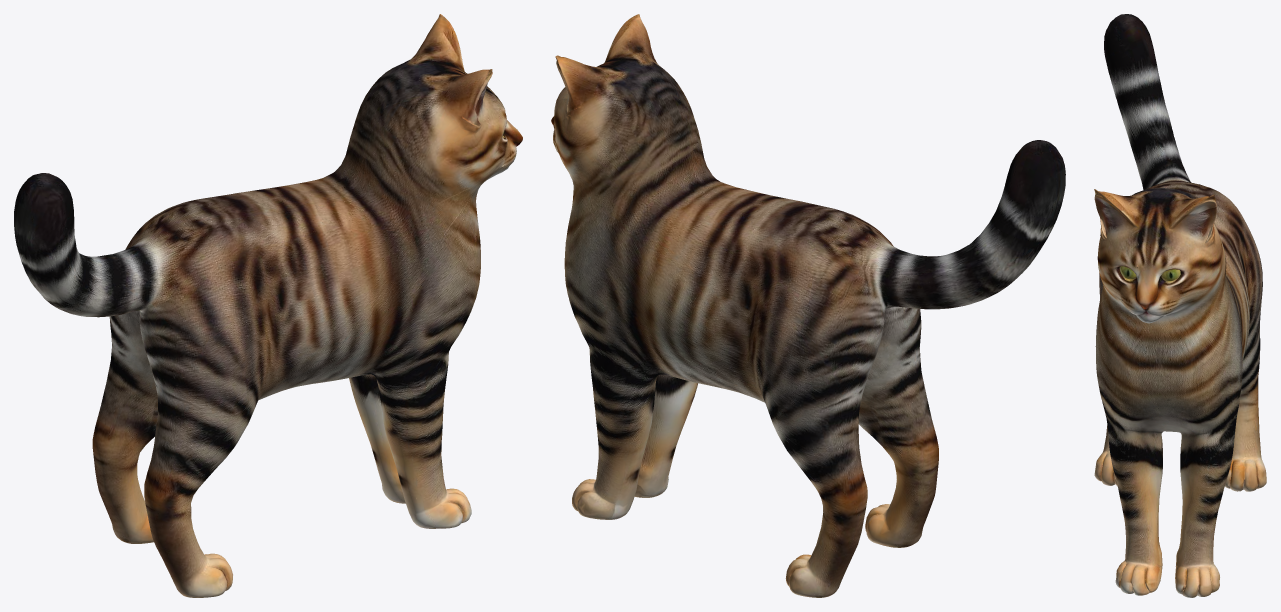
File: GLICAT.glb
3 views of the same model, side by side, from view 1: azimuth 30°, elevation 25°; view 2: azimuth 150°, elevation 25°; view 3: azimuth 270°, elevation 25° (orthographic). The views are drawn at different scales.
Parts seen in each view (by area): view 1: fit; view 2: fit; view 3: fit.
Boxes of the visible parts, x1=… form: fit: x1=14, y1=14, x2=522, y2=597; fit: x1=551, y1=14, x2=1065, y2=597; fit: x1=1094, y1=14, x2=1266, y2=597.
Size of the model in its own units: 1.15 by 1 by 0.3806.
Materials: 1 (1 with a texture image).
